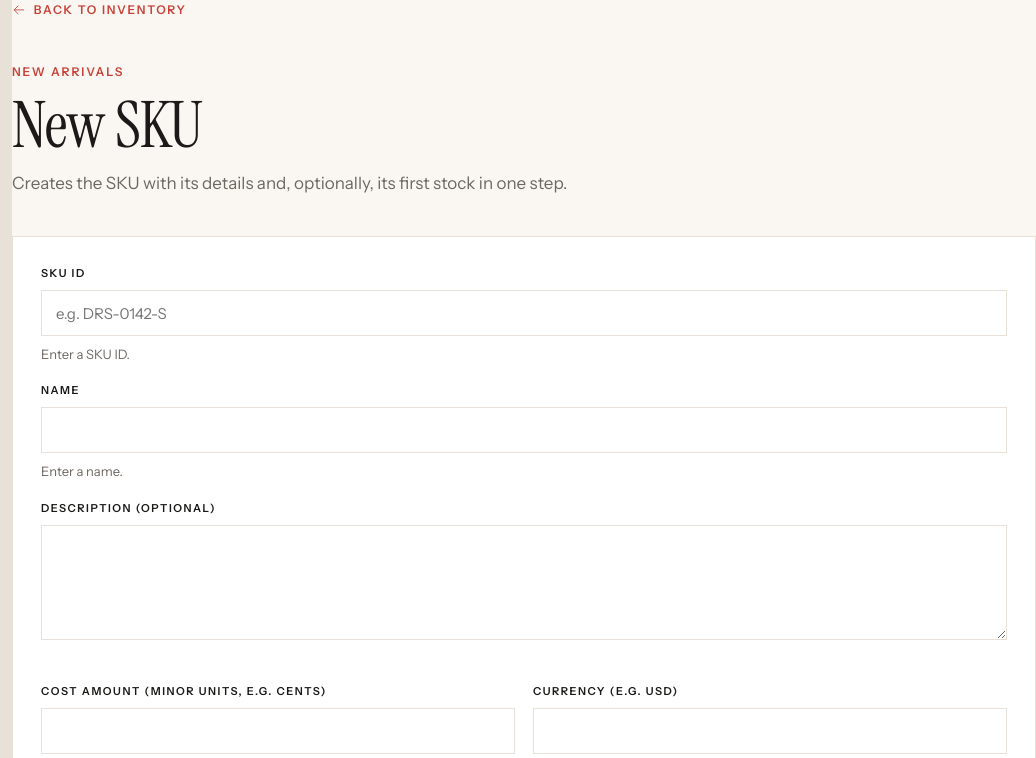
CreateSkuPage (#/new) › cost needs both an amount and a currency, or neither
The width and height of the screenshot is (1036, 758).
Type "A" into the field labelled "SKU ID" at (524, 313), box [41, 290, 1007, 336]
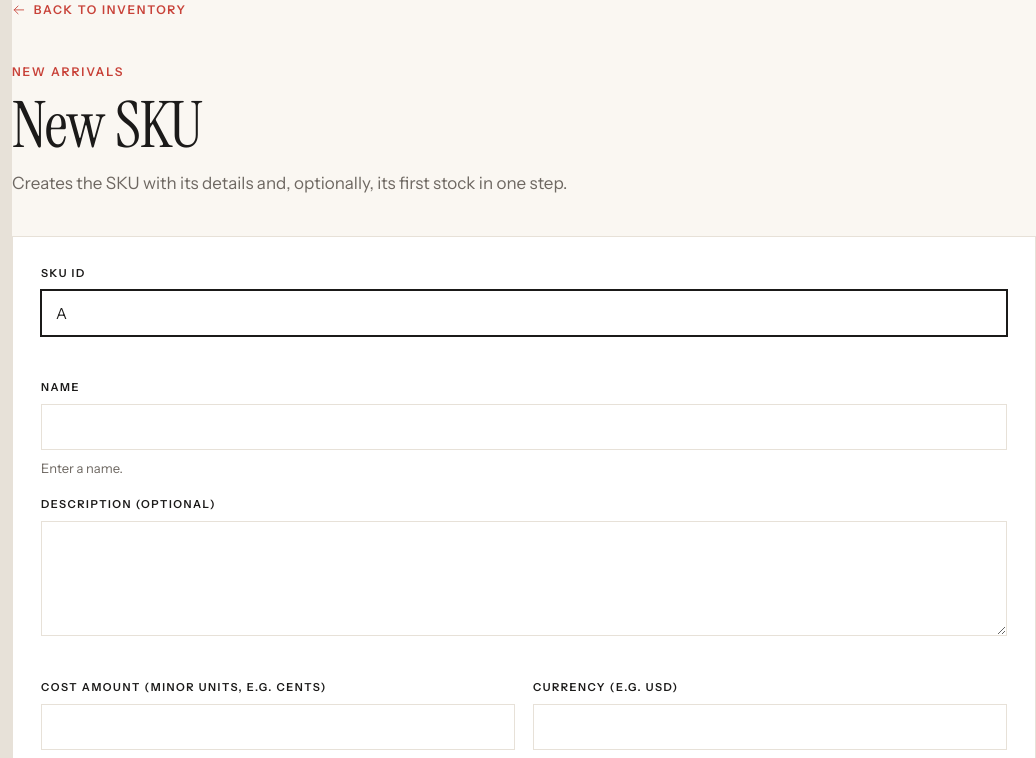
Type "A" into the field labelled "Name" at (524, 427), box [41, 404, 1007, 450]
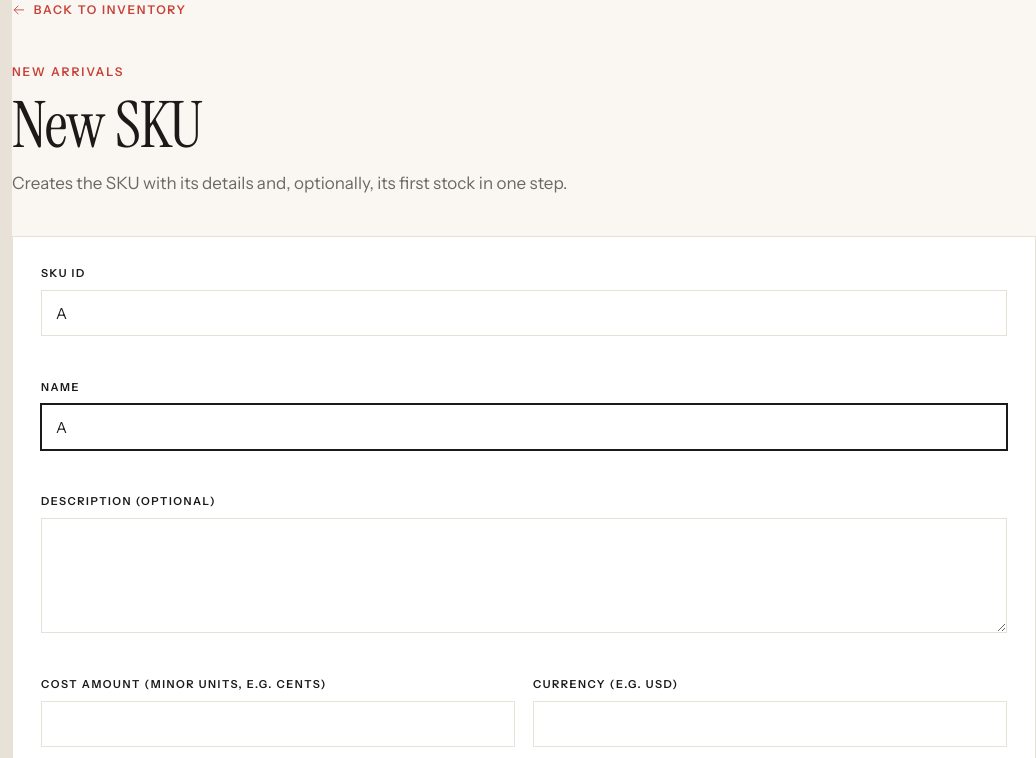
Type "100" into the number field labelled "Cost amount (minor units, e.g. cents)" at (278, 724), box [41, 701, 515, 747]
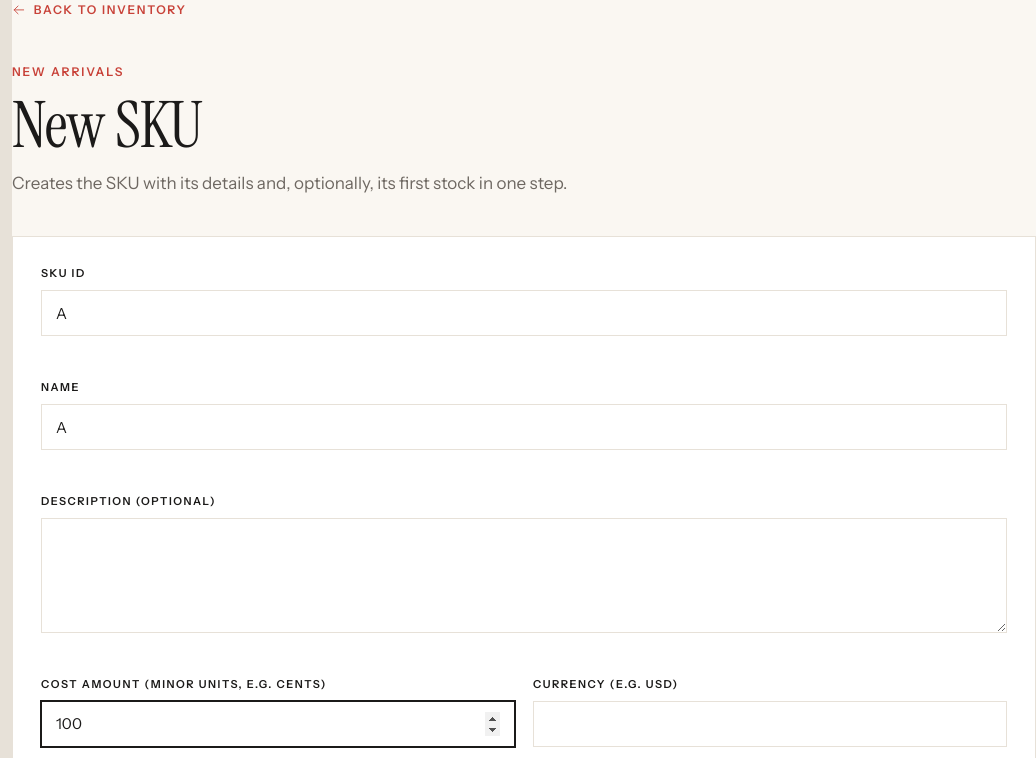
Type "EUR" into the field labelled "Currency (e.g. USD)" at (770, 724), box [533, 701, 1007, 747]
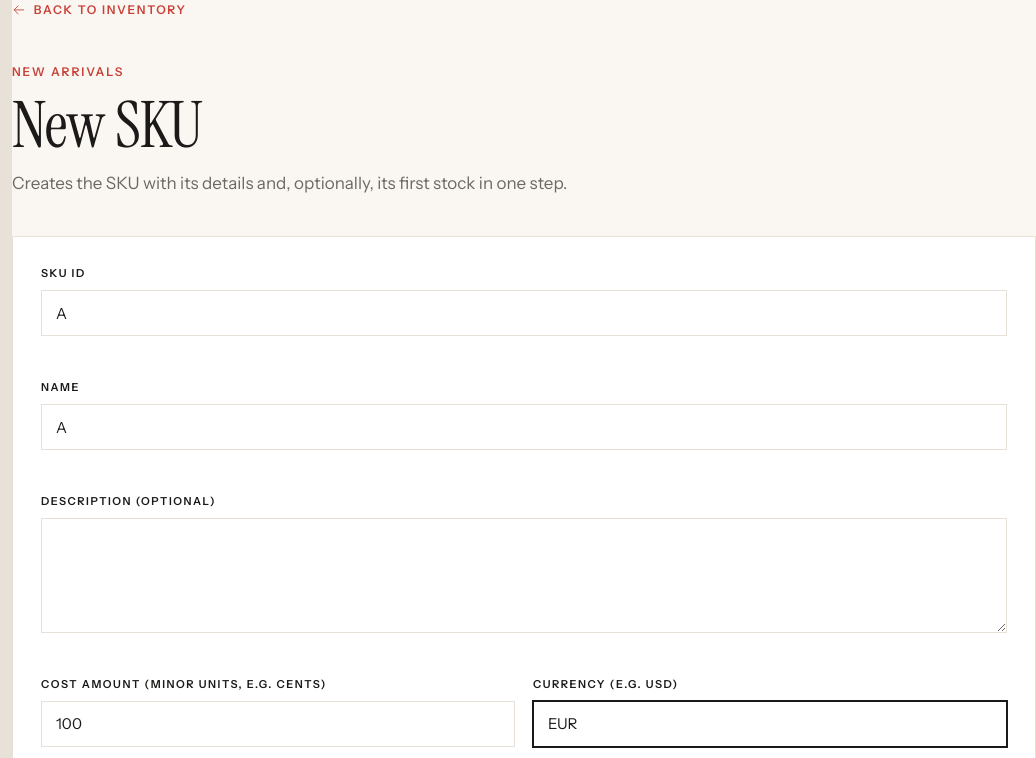
Clear the number field labelled "Cost amount (minor units, e.g. cents)" at (278, 724), box [41, 701, 515, 747]
(page scrolled)
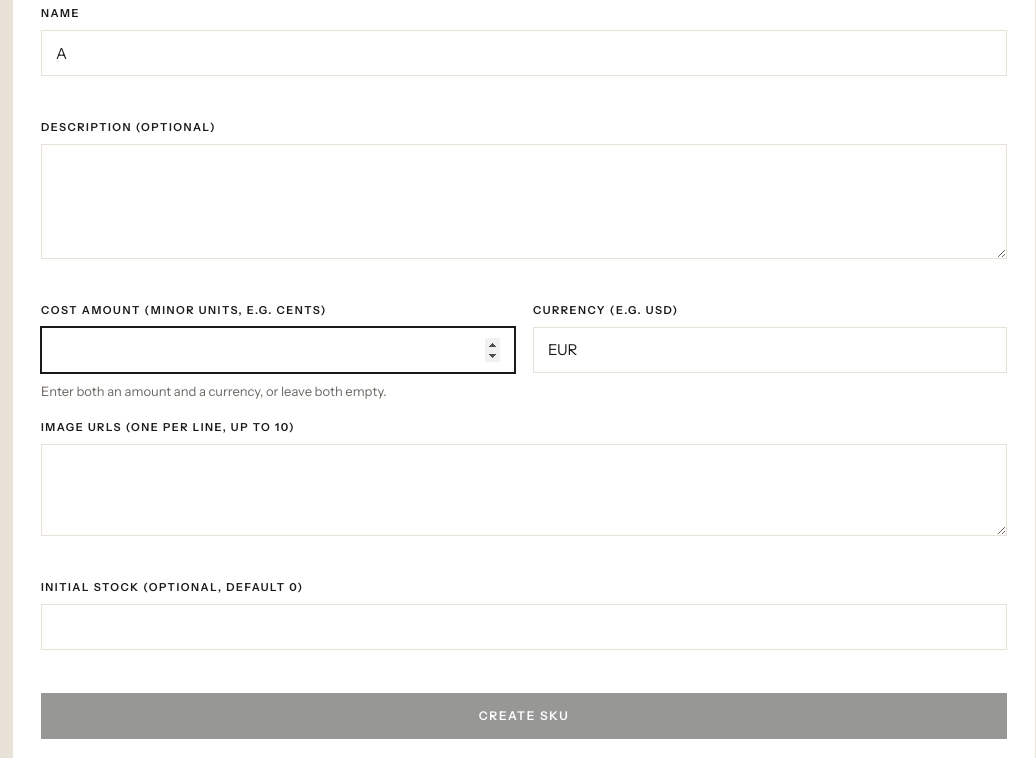
expect the text "Enter both an amount and a currency, or leave both empty." is shown: met, box [41, 383, 386, 399]
